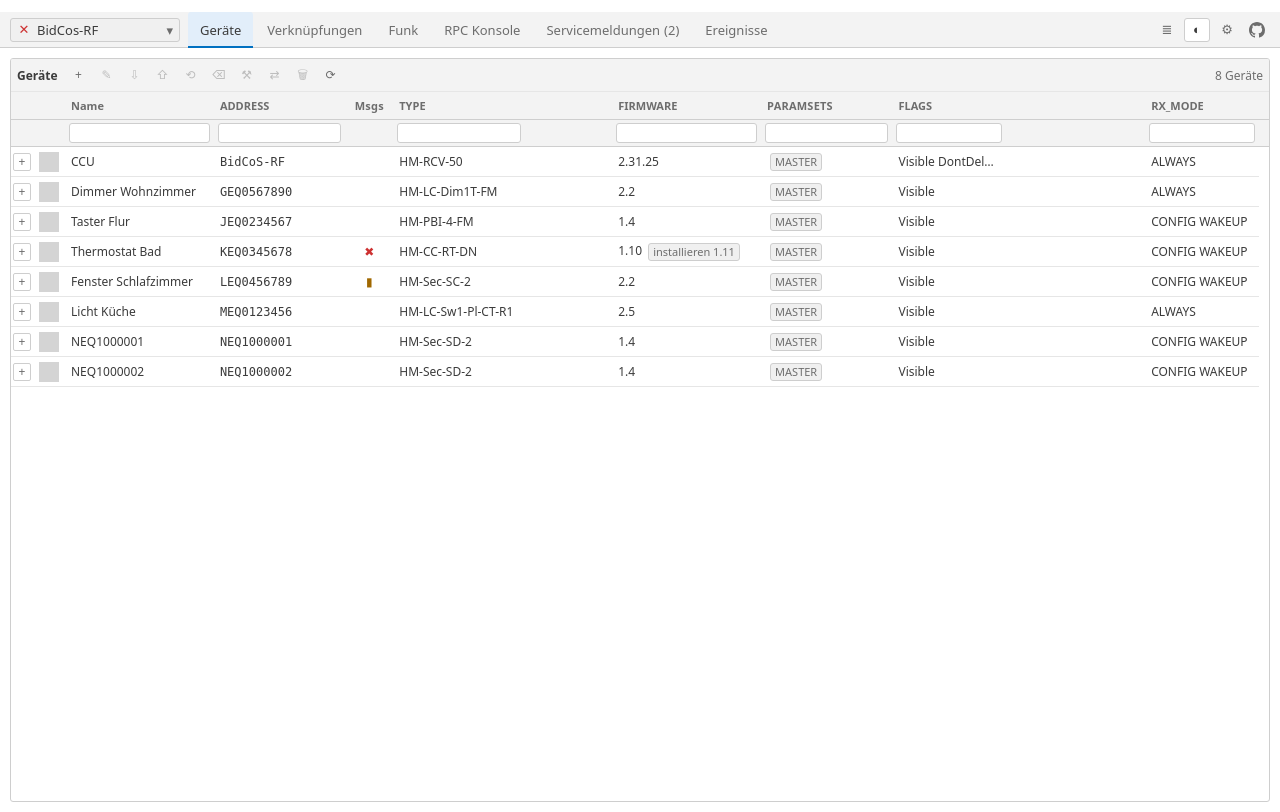
it: the devices toolbar › keeps delete and replace off a DontDelete device and explains the flag
Click the row that starts with "CCU": click(635, 162) [11,147,1259,177]
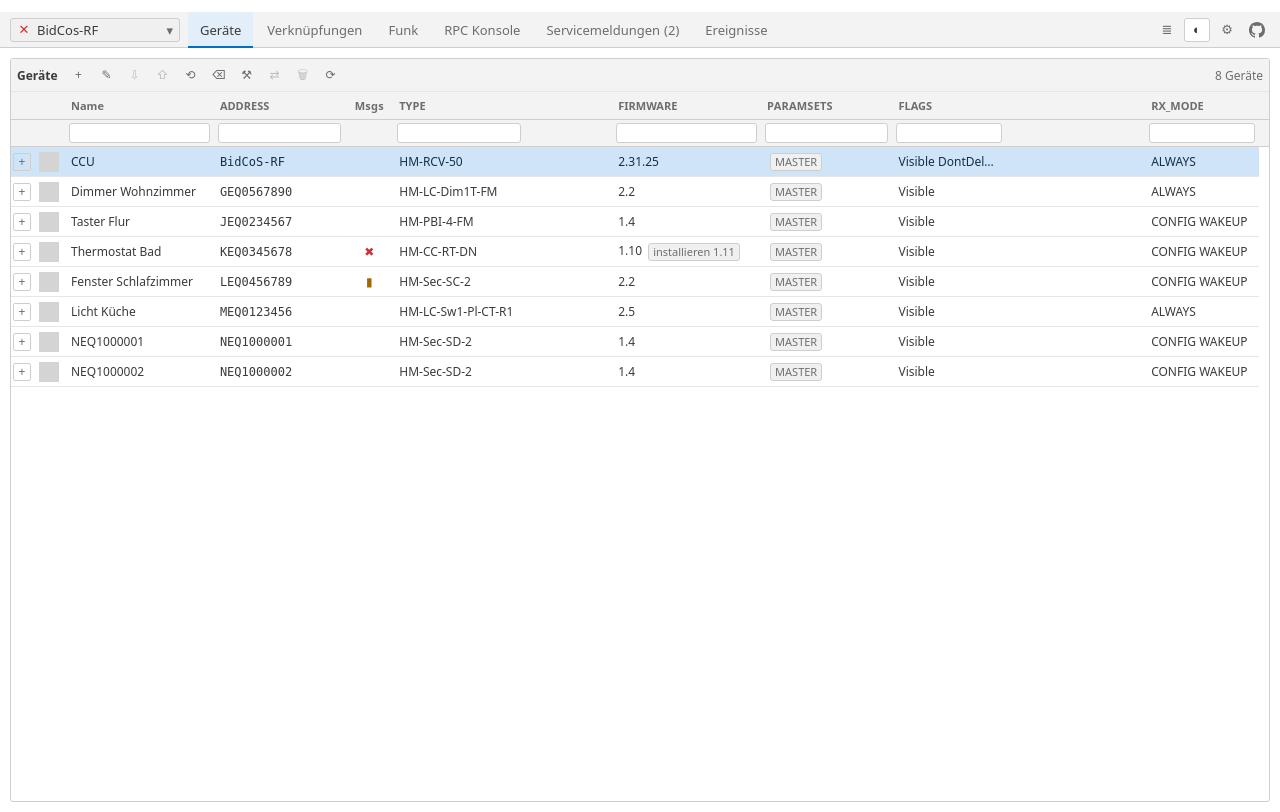
Expected: the button with test id "devices-delete" is disabled, [290,62,316,88]
Now the button with test id "devices-rename" is enabled, box [94,62,120,88]
